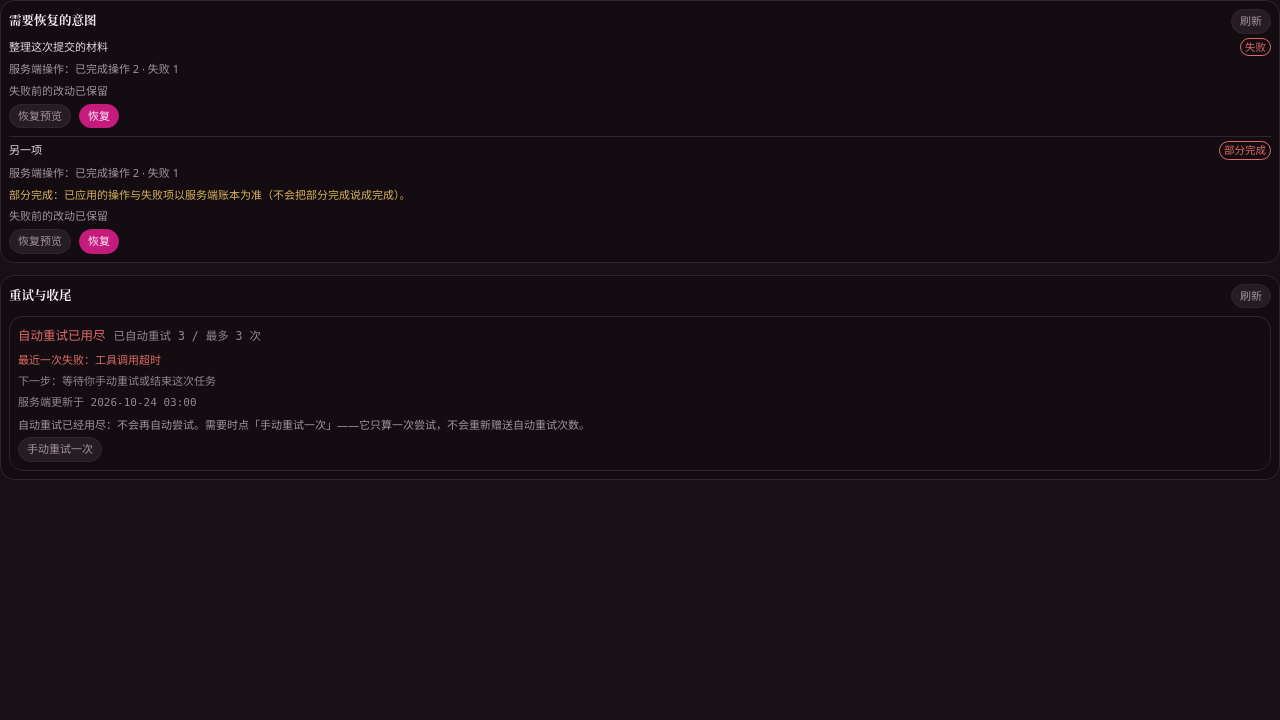
it: RecoveryPanel：保存失败持续可见 + 服务端恢复 › 可恢复意图：只列服务端的可恢复项；部分完成原样标注；恢复预览与恢复都调真实服务
Expected: the list item that starts with "另一项" shows "部分完成", x1=1224 y1=144 x2=1266 y2=156
Expected: the list item "整理这次提交的材料 失败 服务端操作：已完成操作 2 · 失败 1 失败前的改动已保留 恢复预览 恢复" is shown, x1=9 y1=38 x2=1271 y2=128
What coordinates should you click on to do the following:
click the button "恢复预览" below "整理这次提交的材料"
I would click on:
 (40, 116)
Its box is x1=9 y1=104 x2=71 y2=128.
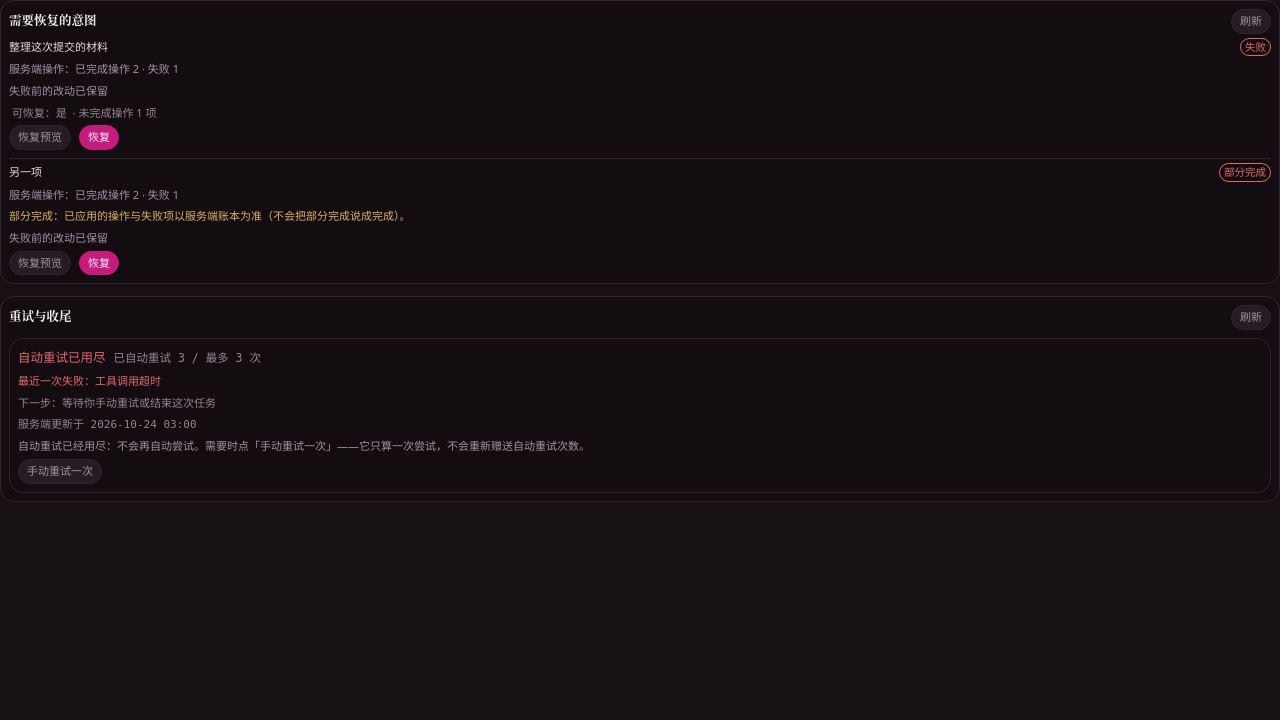
Expected: the text "可恢复：是 · 未完成操作 1 项" is shown, x1=9 y1=105 x2=159 y2=120
What coordinates should you click on to do the following:
click the button "恢复" below "整理这次提交的材料"
I would click on:
 (99, 138)
Its box is x1=79 y1=125 x2=119 y2=150.
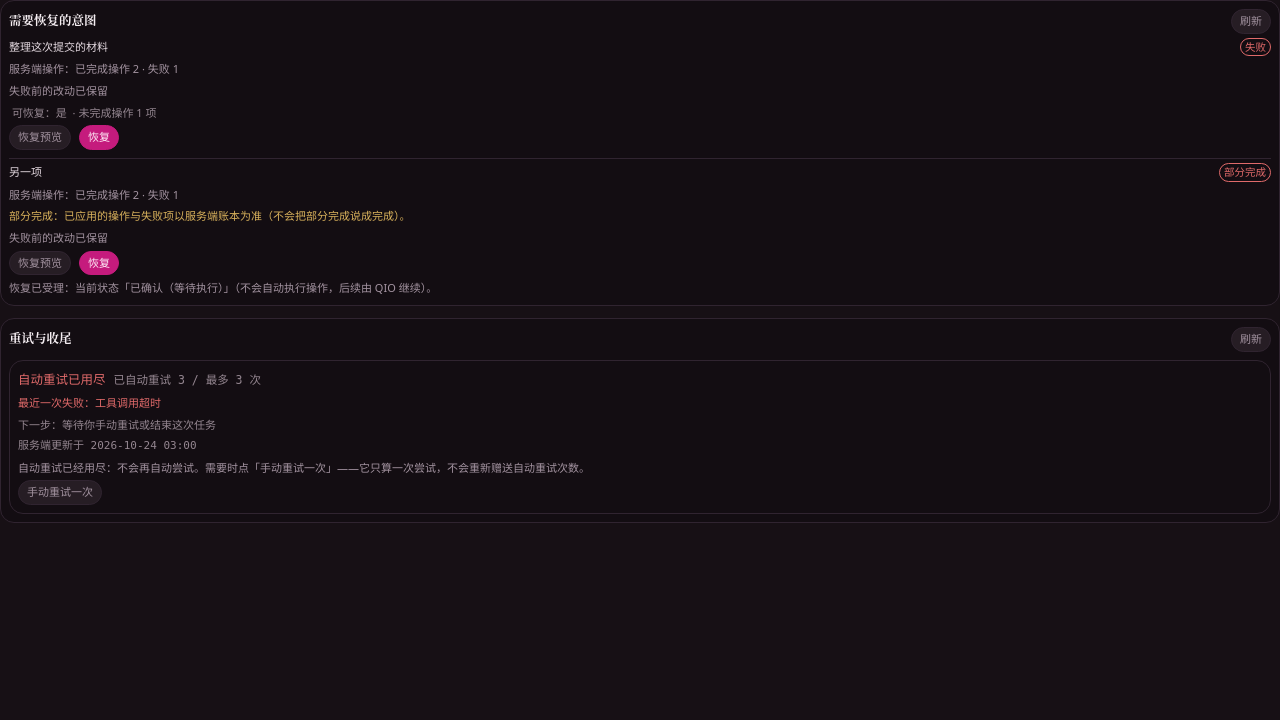
Expected: the message "恢复已受理：当前状态「已确认（等待执行）」（不会自动执行操作，后续由 QIO 继续）。" is shown, x1=9 y1=280 x2=437 y2=295
